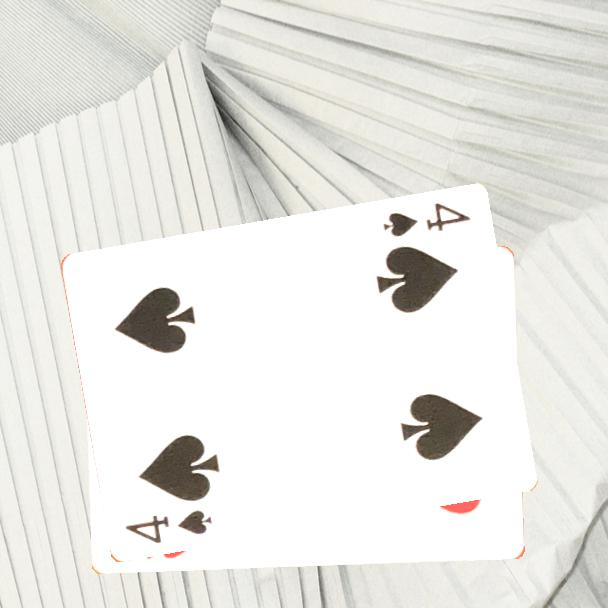s04: (379, 199, 473, 240), (121, 507, 215, 547)
